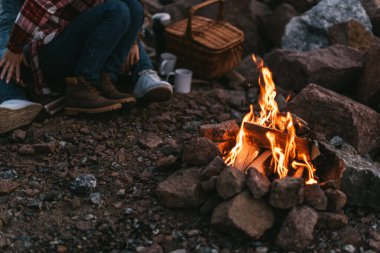fire: (233, 57, 307, 177)
